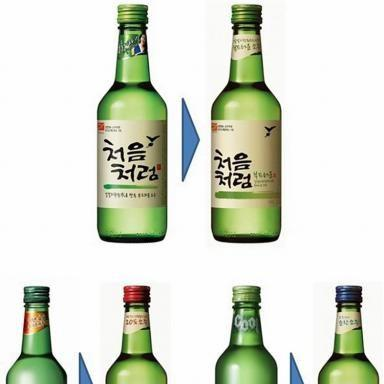soju: (95, 3, 171, 244), (209, 2, 283, 245)
